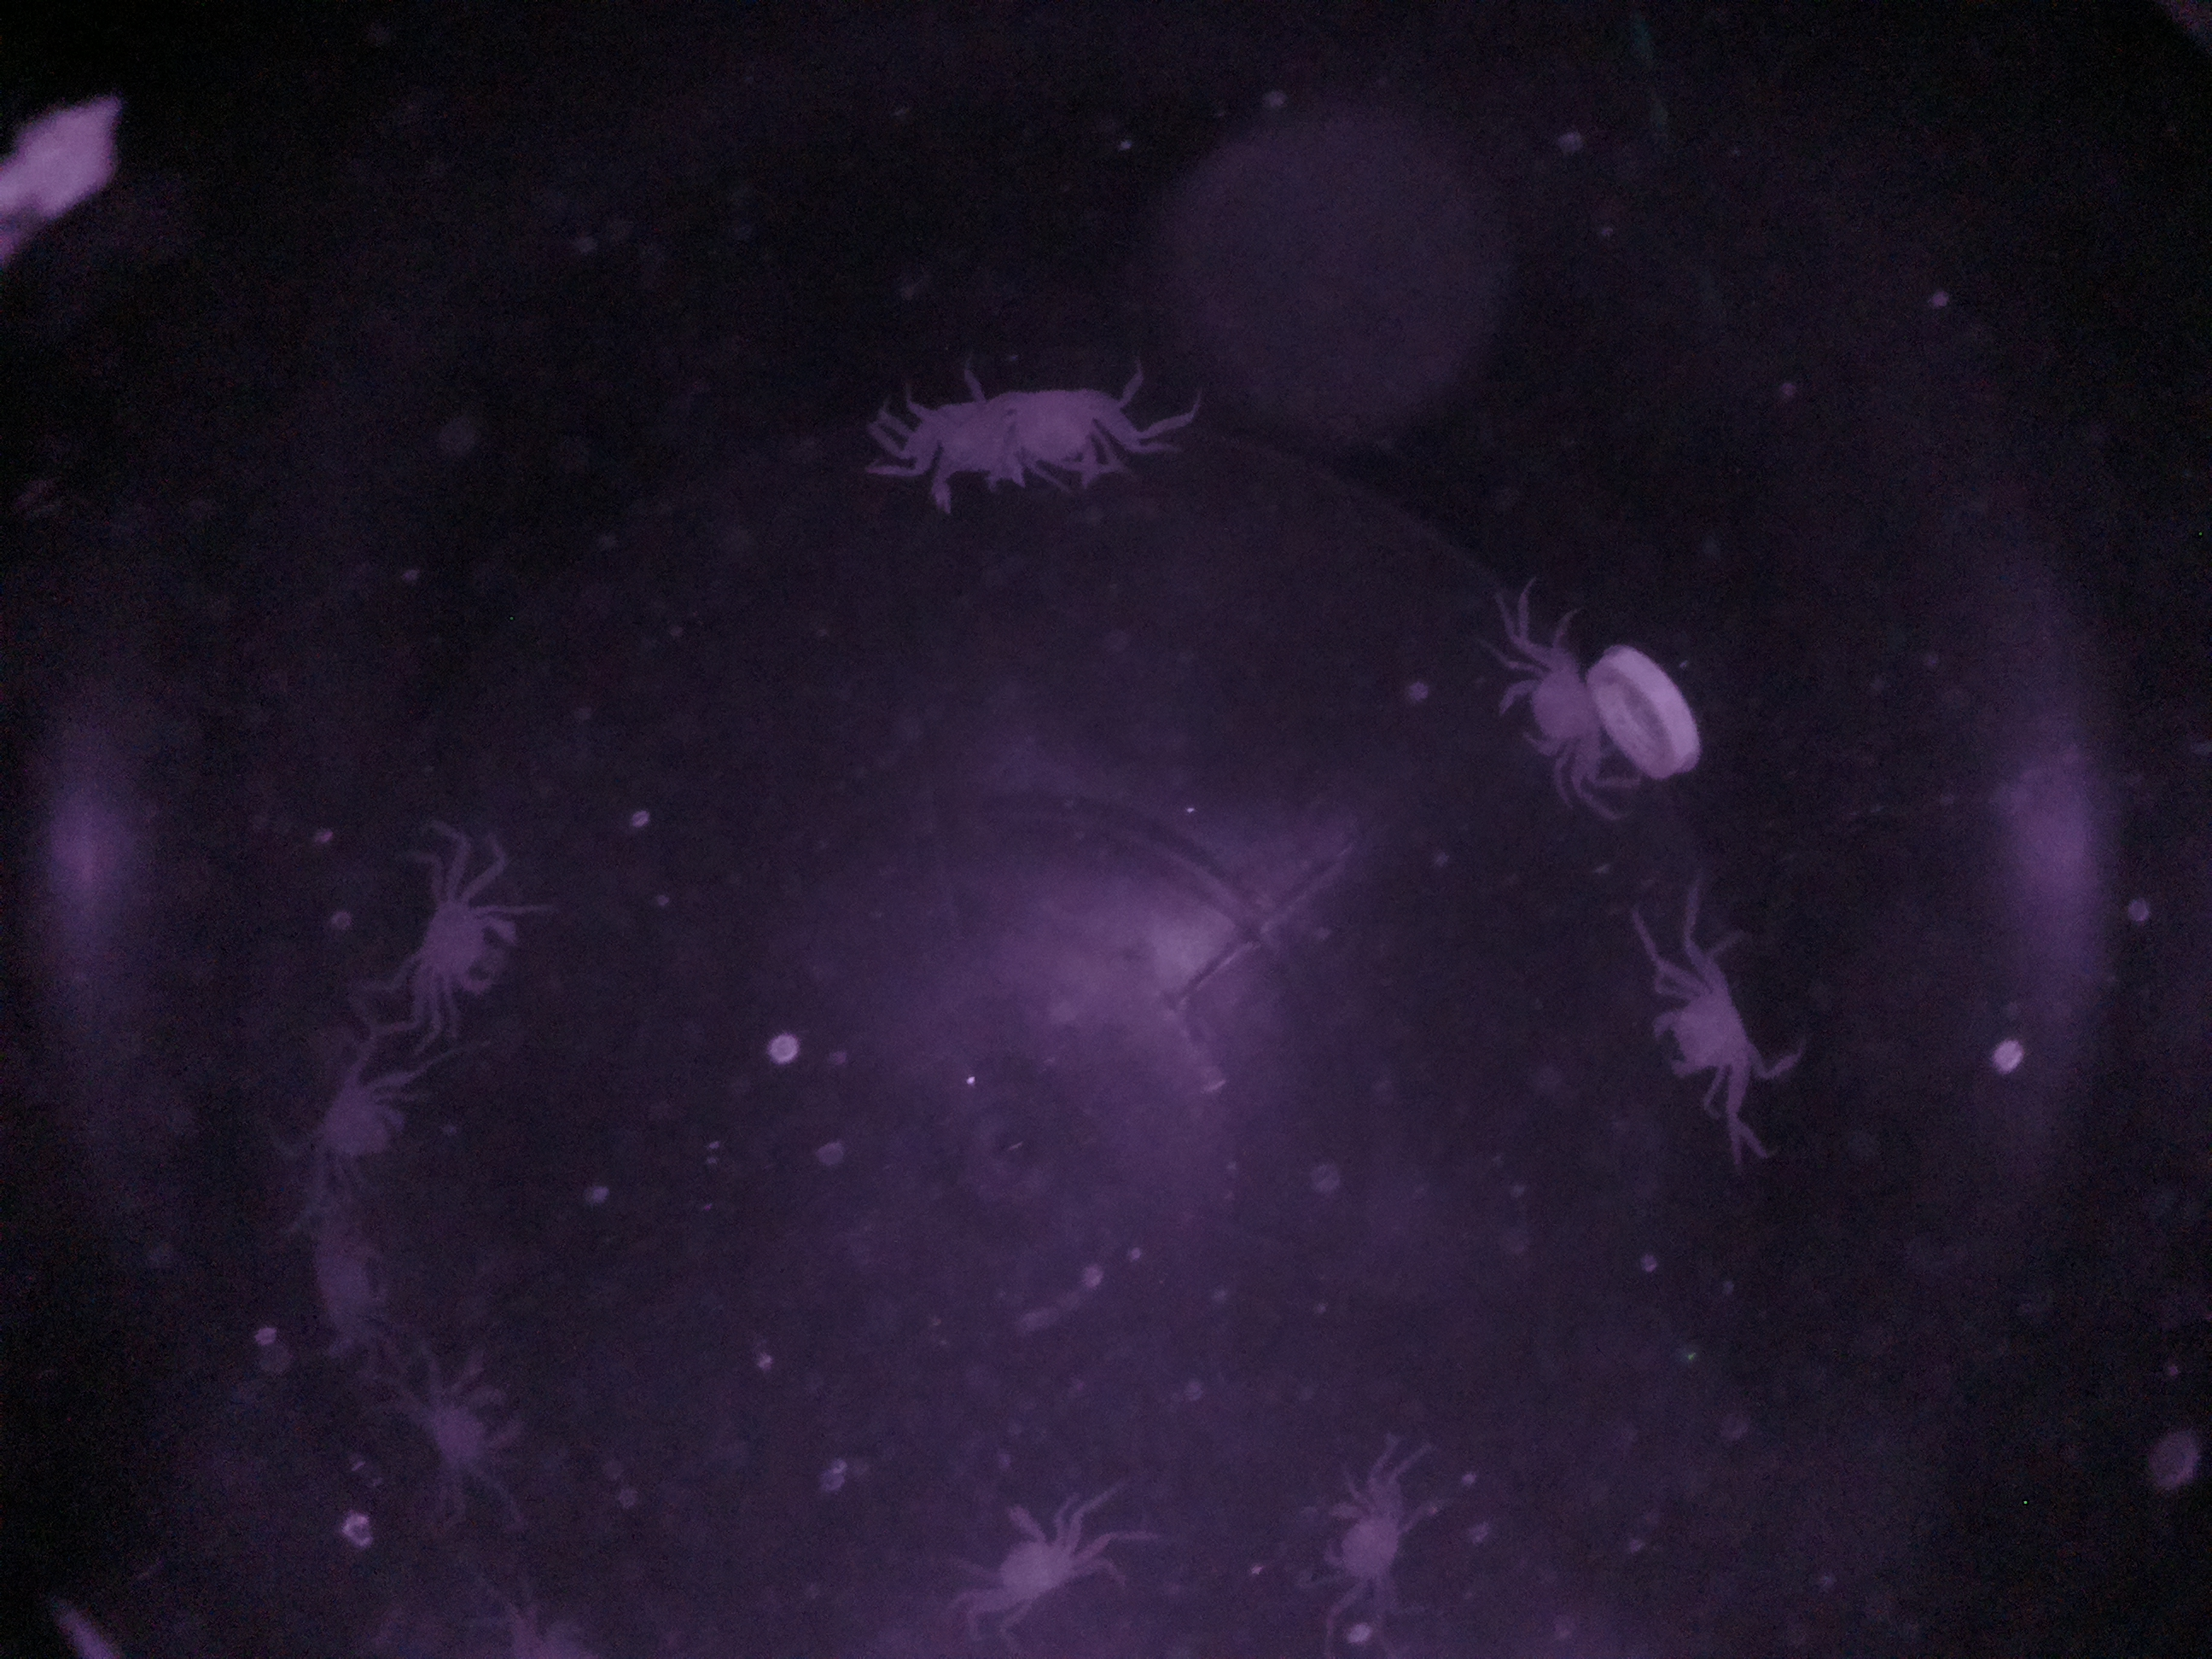Crab: (1634, 938, 1785, 1140), (939, 1483, 1129, 1643), (1472, 608, 1627, 803), (1305, 1464, 1444, 1631), (390, 873, 545, 1021)
